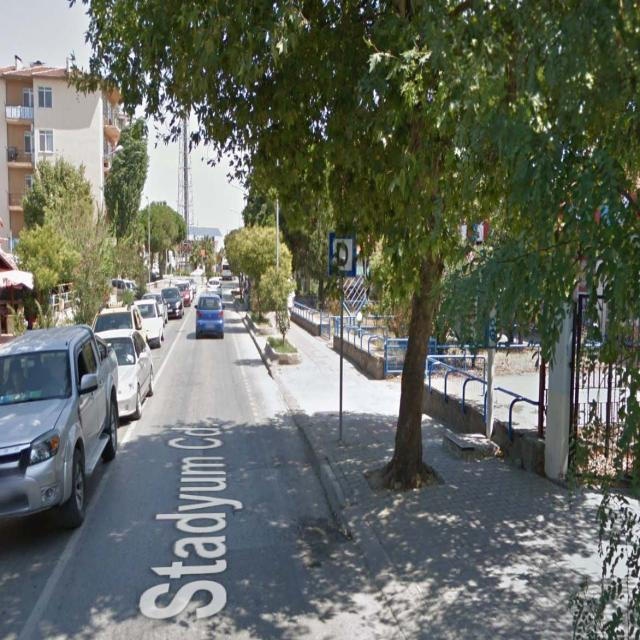durak: (328, 234, 357, 278)
